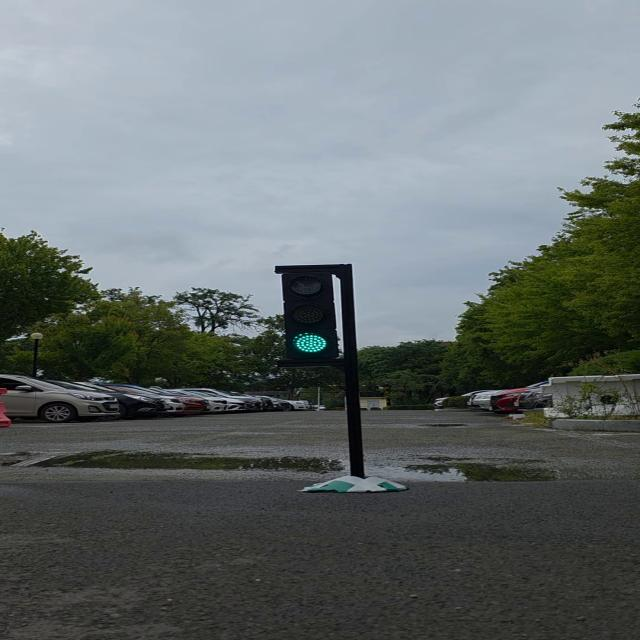green: (277, 265, 357, 369)
